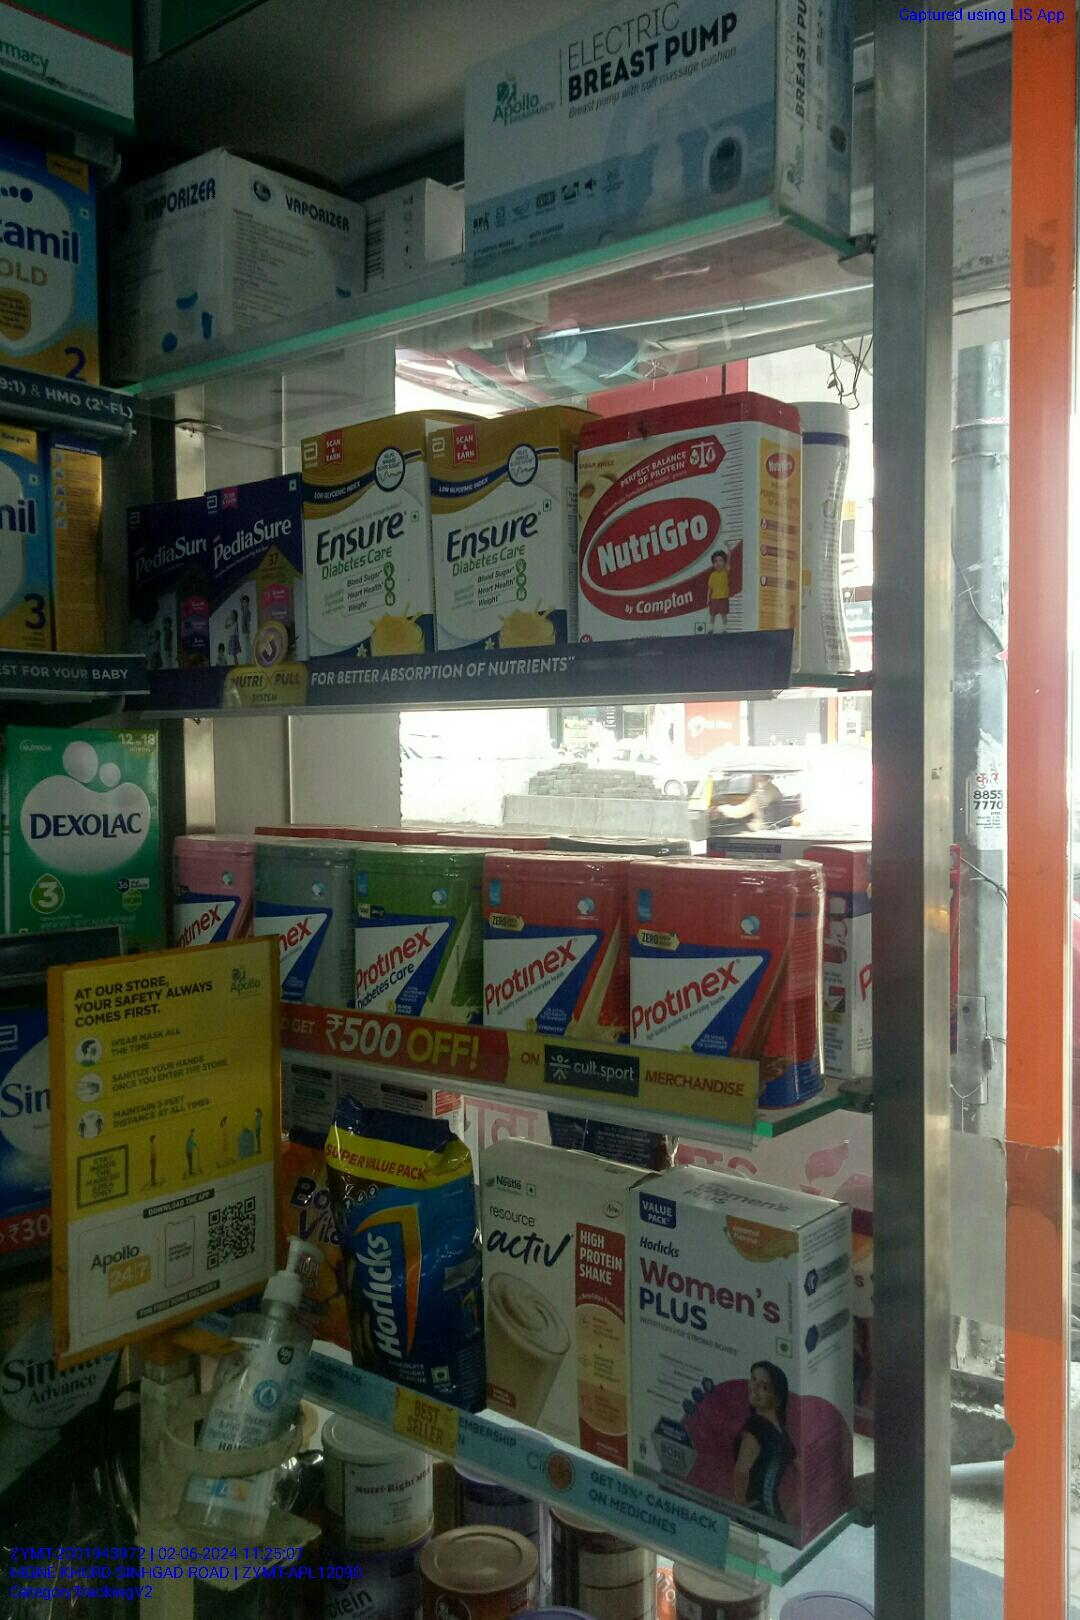PEDIASURE_CHOCOLATE_500_G_PACK: (209, 483, 295, 662), (125, 499, 204, 671)
PROTINEX_CHOCOLATE_400_G_JAR: (630, 857, 799, 1102)
PROTINEX_ORIGINAL_400_G_JAR: (253, 845, 345, 1000)
PROTINEX_VANILLA_400_G_JAR: (485, 856, 623, 1049)
